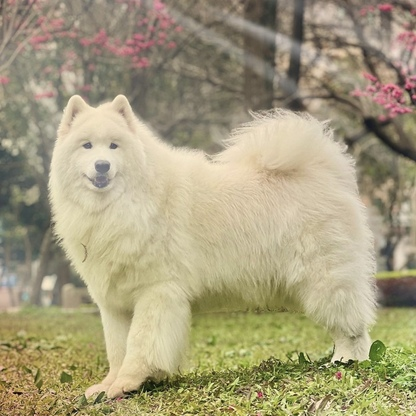samoyed: (42, 87, 385, 409)
